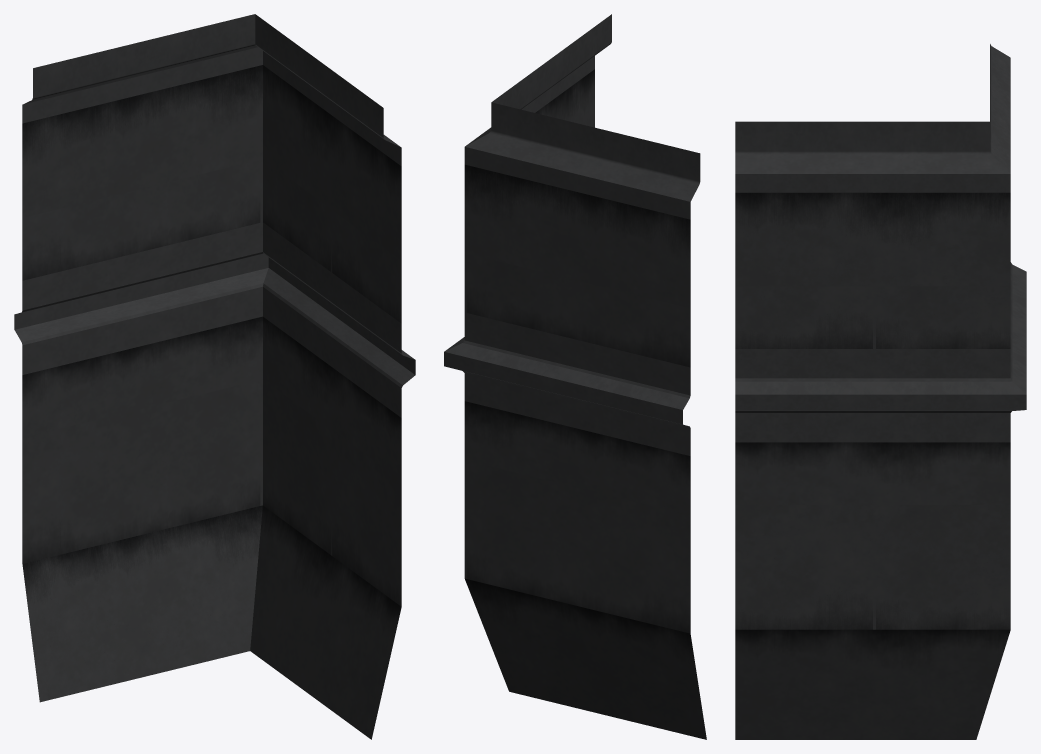
The model's file is M_Wall_Concave_Corner_4x10_v4.fbx.
The picture shows the model from 3 angles, left to right: view 1: azimuth 30°, elevation 25°; view 2: azimuth 150°, elevation 25°; view 3: azimuth 270°, elevation 25°; orthographic projection. The views are drawn at different scales.
Parts seen in each view (by area): view 1: Wall_Corner_Concave_4x10_v4; view 2: Wall_Corner_Concave_4x10_v4; view 3: Wall_Corner_Concave_4x10_v4.
Boxes of the visible parts, bbox=[...] form: Wall_Corner_Concave_4x10_v4: bbox=[14, 14, 415, 739]; Wall_Corner_Concave_4x10_v4: bbox=[444, 14, 706, 739]; Wall_Corner_Concave_4x10_v4: bbox=[735, 44, 1026, 739].
Size of the model in its own units: 423 by 1000 by 423.
